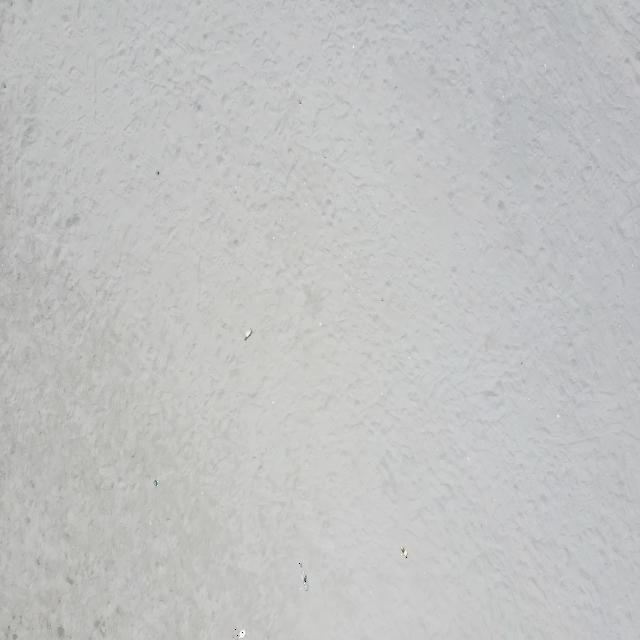glass: (298, 562, 308, 592), (230, 626, 247, 638), (243, 327, 253, 342), (400, 546, 408, 558), (152, 478, 158, 486)
